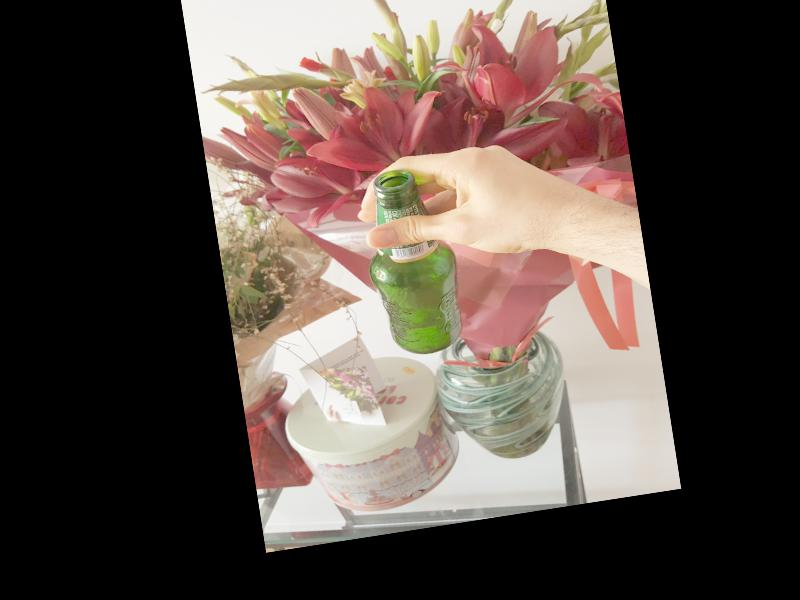Beer: (355, 165, 466, 361)
